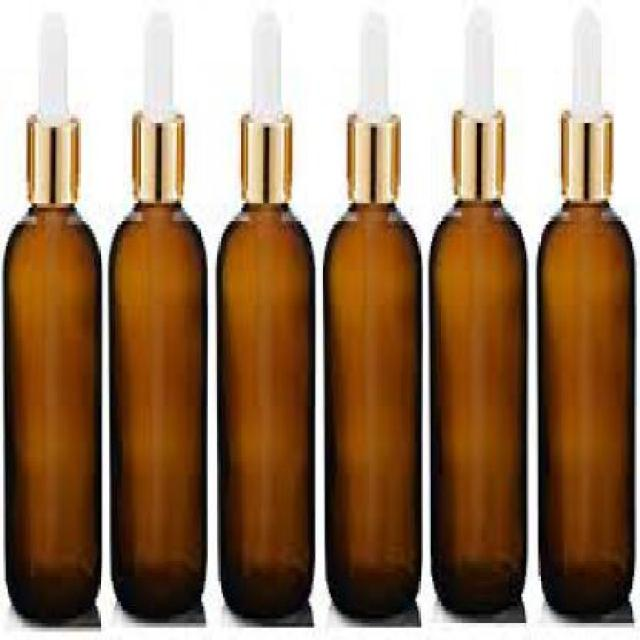GLASS: (216, 199, 316, 615), (106, 195, 206, 610), (534, 195, 632, 610), (426, 199, 525, 606), (323, 195, 419, 614), (2, 199, 98, 610)
METAL: (344, 102, 398, 203), (131, 102, 183, 203), (449, 101, 502, 196), (236, 106, 289, 200), (557, 106, 609, 196), (25, 110, 77, 195)
PLASTIC: (356, 4, 386, 114), (36, 9, 64, 120), (462, 8, 492, 110), (250, 9, 279, 114), (572, 5, 600, 106), (144, 13, 171, 115)
